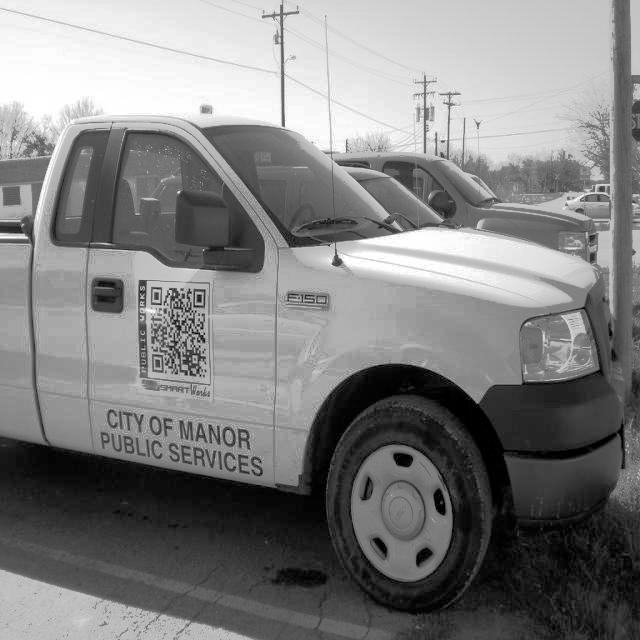qr_code: (150, 287, 206, 377)
